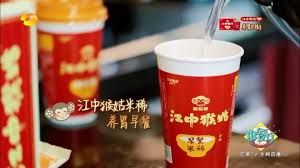cup: (154, 38, 240, 168), (36, 1, 105, 123)
